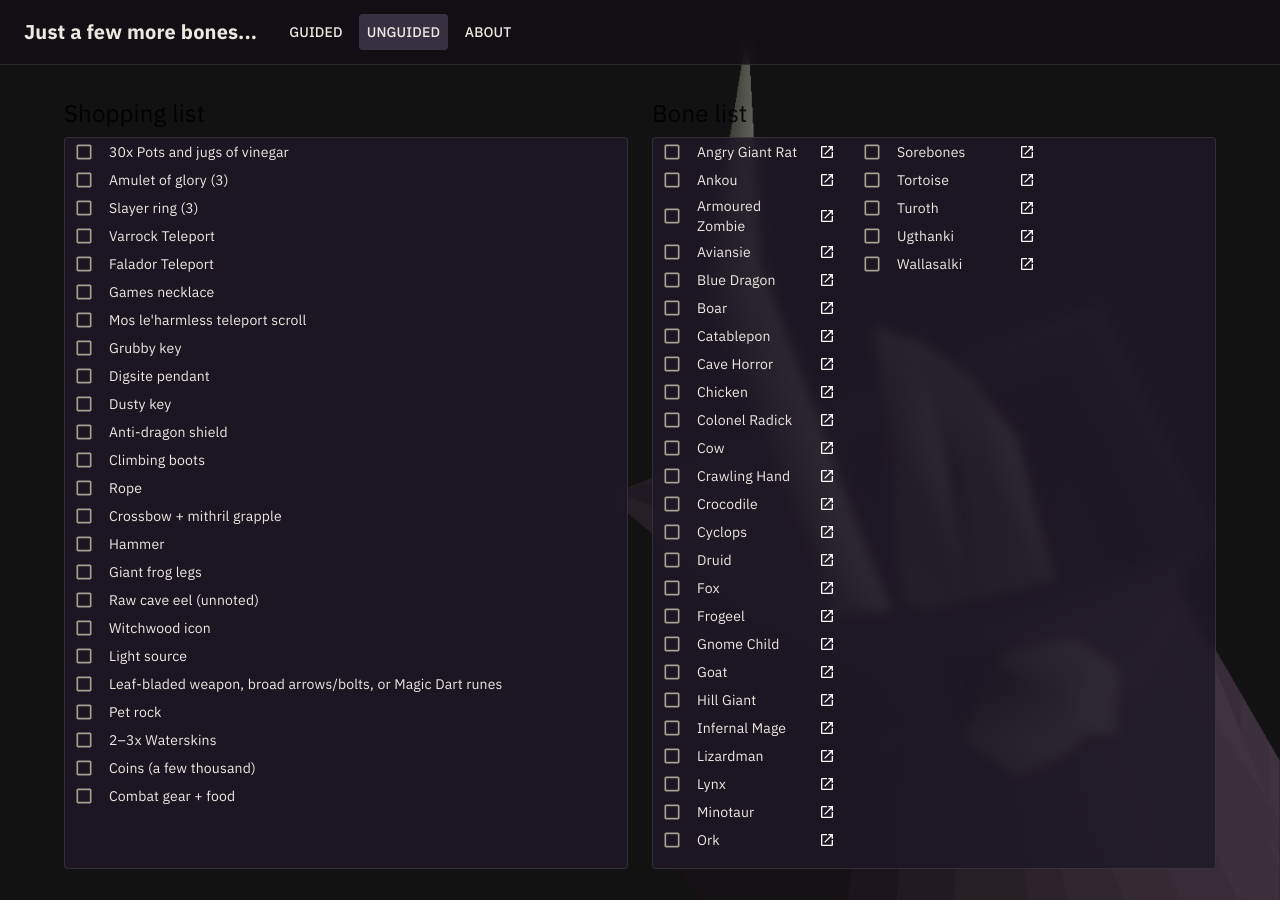
Test: SillyBonesack easter egg › stays hidden until two bones are ticked
What coordinates should you click on to do the following:
click the checkbox named "Ankou"
I would click on:
 (672, 180)
Its box is [662,170,682,190].
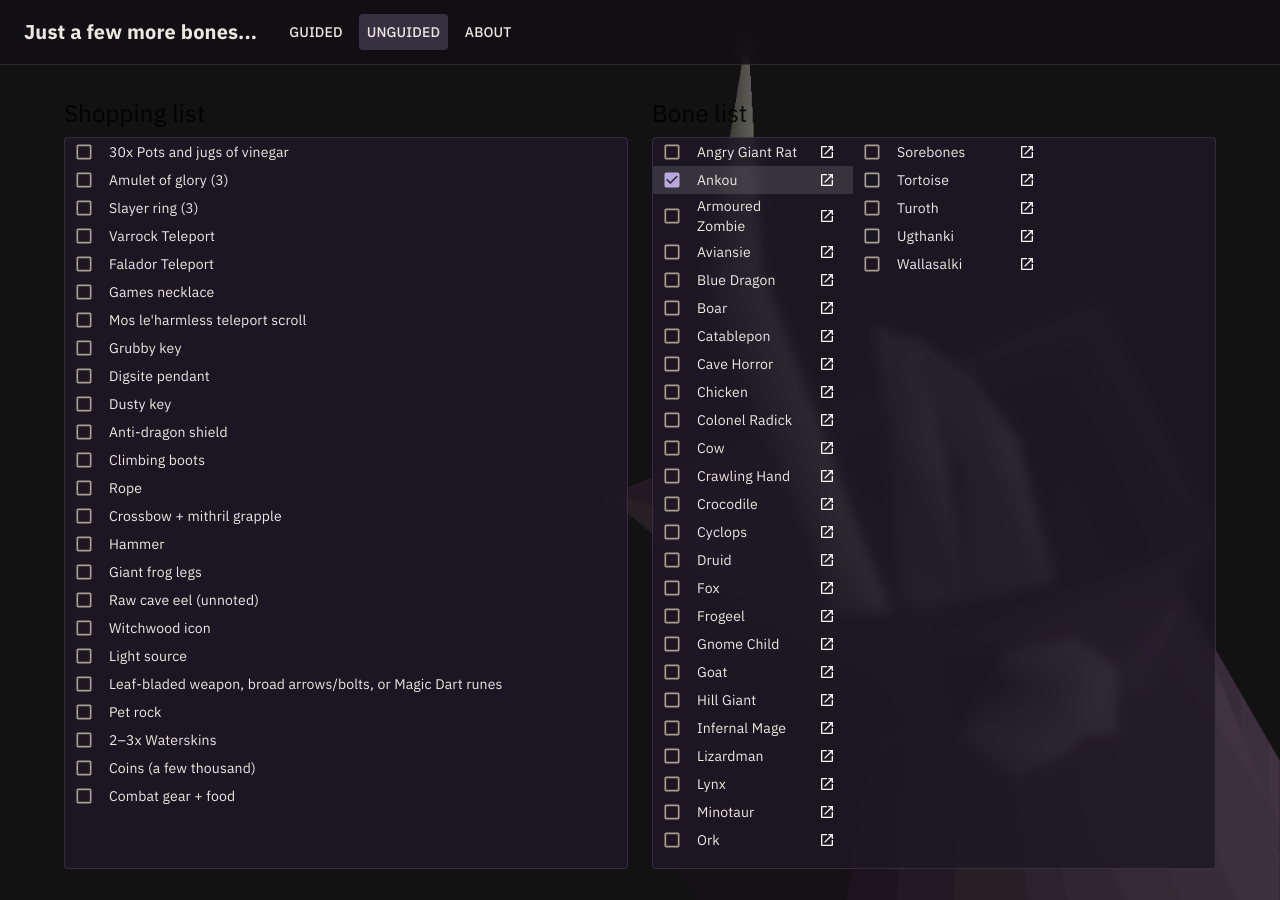
What coordinates should you click on to do the following:
click the checkbox named "Angry Giant Rat"
I would click on:
 (672, 152)
Its box is [662,142,682,162].
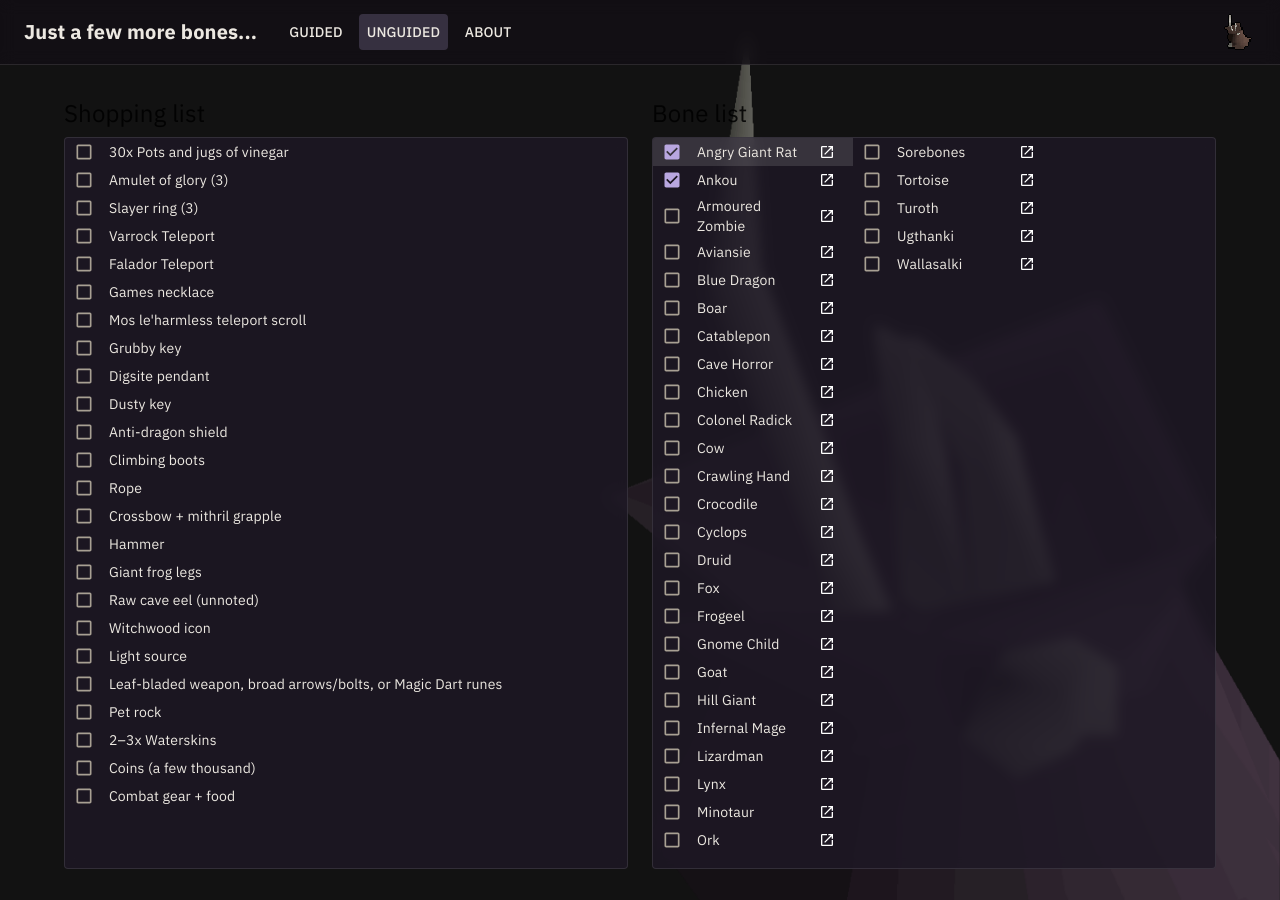
Expected: the button named "Bonesack" is shown, [1220,10,1256,54]
